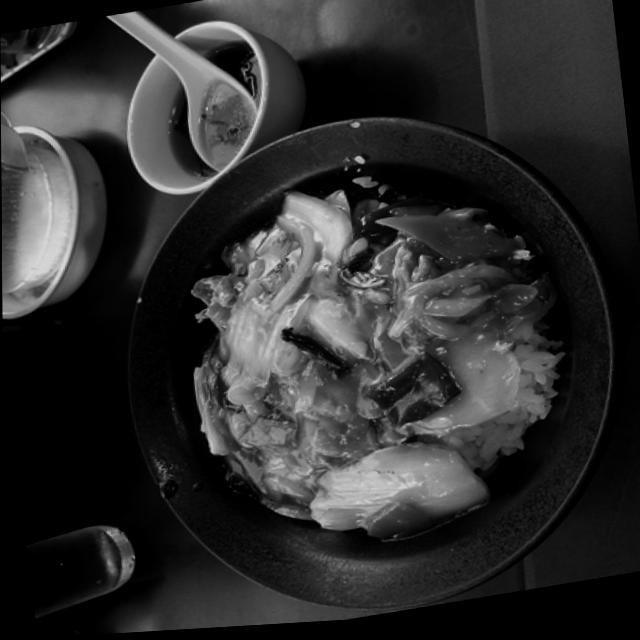汤锅炖物: (107, 7, 285, 208)
